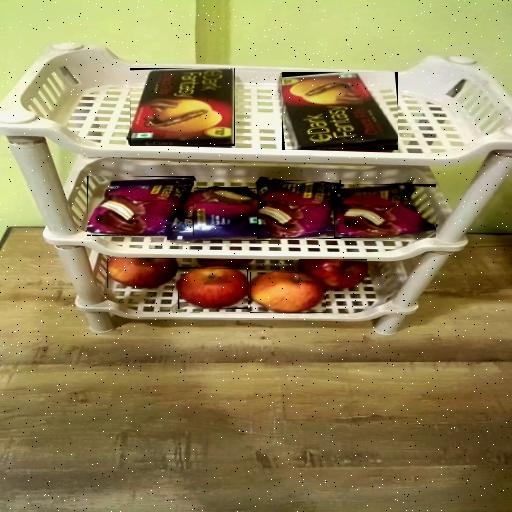Apple: (250, 272, 326, 313), (178, 267, 248, 309), (107, 258, 176, 288), (299, 260, 367, 289), (198, 260, 250, 269)
Choco Fills: (282, 72, 398, 150), (130, 68, 235, 146)
Choco Pie: (87, 178, 194, 235), (334, 184, 436, 238), (170, 188, 271, 241), (257, 180, 341, 239)
